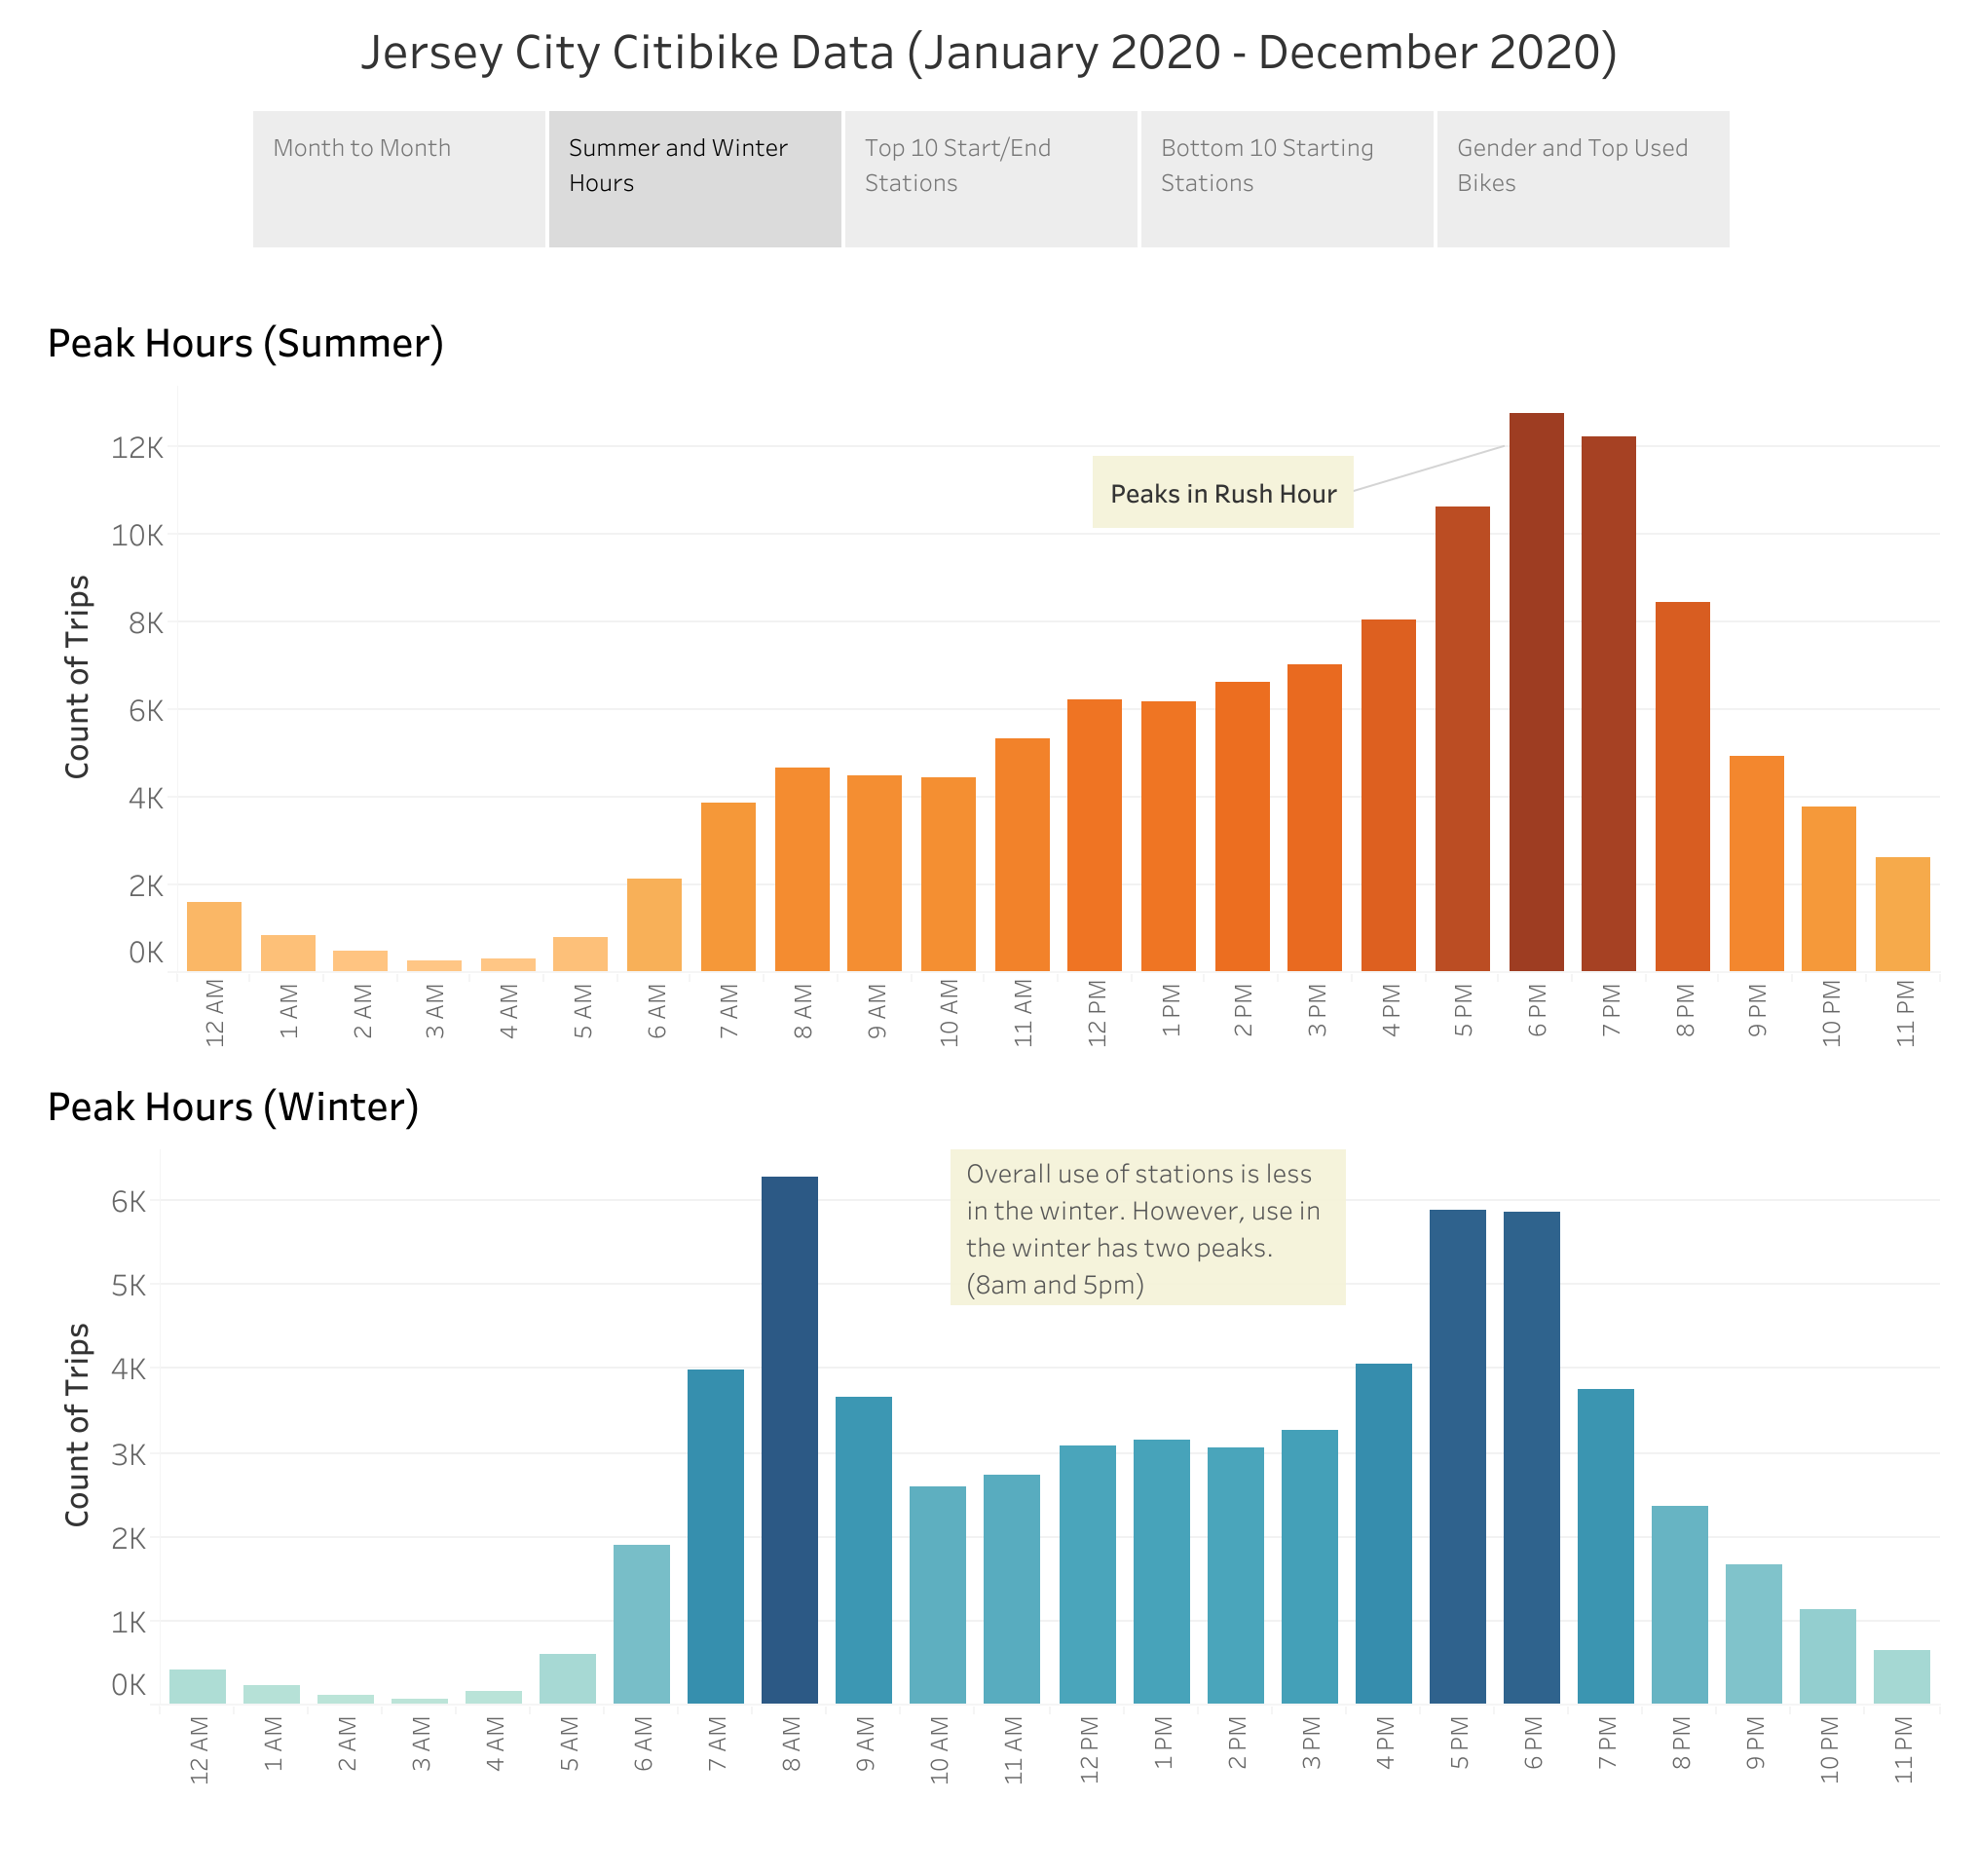

The dashboard page shown, as its layout file describes it:
{"tool":"tableau","page":{"name":"Summer/Winter","canvas":[1000,800],"ordinal":3},"visuals":[{"type":"worksheet","box":[0,0,1000,800]},{"type":"worksheet","param":"horz","box":[8,8,984,784]},{"type":"worksheet","box":[8,8,984,784]},{"type":"worksheet","title":"Peak Hours (Summer)","mark":"Bar","rows":["_9600791658004DF18070FB139A6BCF63"],"cols":["starttime"],"box":[8,8,984,392]},{"type":"worksheet","title":"Peak Hours (Winter)","mark":"Bar","rows":["_9600791658004DF18070FB139A6BCF63"],"cols":["starttime"],"box":[8,400,984,392]}]}

Visuals, with their boxes on the page's 1000x800 design canvas (x1, y1, x2, y2). These are canvas units, not pixel positions in the 1977x1876 screenshot, which may show the page scaled, cropped or inside an application window:
worksheet: {"left": 0, "top": 0, "right": 1000, "bottom": 800}
worksheet: {"left": 8, "top": 8, "right": 992, "bottom": 792}
worksheet: {"left": 8, "top": 8, "right": 992, "bottom": 792}
"Peak Hours (Summer)" worksheet (Bar marks): {"left": 8, "top": 8, "right": 992, "bottom": 400}
"Peak Hours (Winter)" worksheet (Bar marks): {"left": 8, "top": 400, "right": 992, "bottom": 792}
